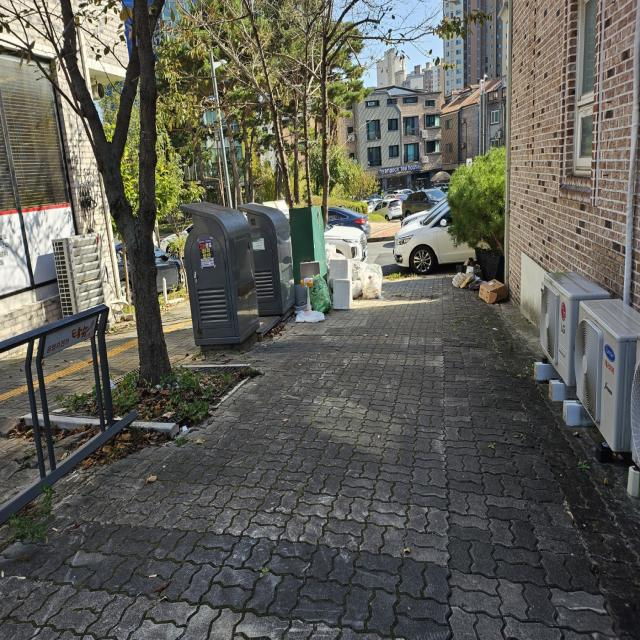CleanNet: (172, 195, 262, 351), (242, 192, 293, 324)
General Waste: (320, 240, 389, 313), (286, 268, 338, 328)
